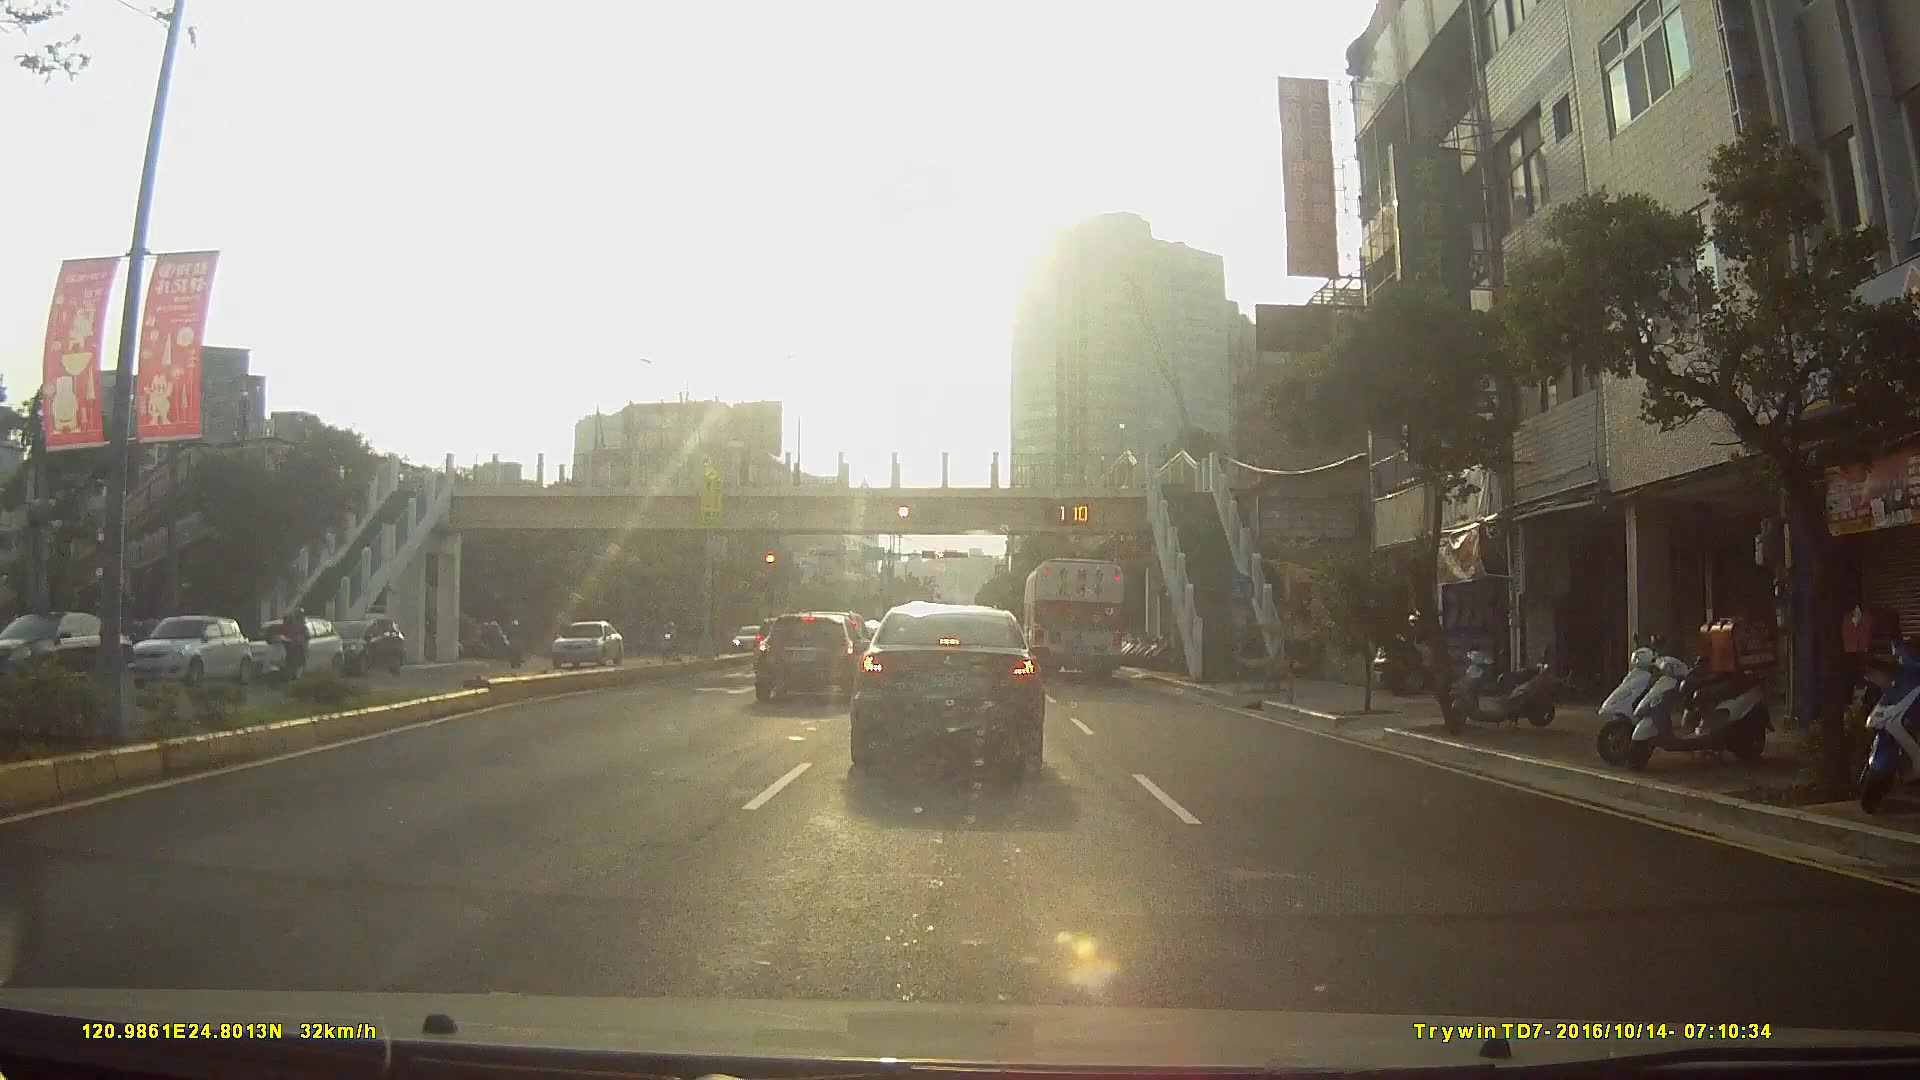rider: (253, 608, 319, 697)
vehicle: (845, 600, 1048, 772), (1021, 554, 1127, 682), (748, 609, 867, 703), (0, 609, 133, 688), (120, 615, 249, 688), (234, 616, 342, 679), (320, 616, 404, 677), (541, 619, 619, 671), (728, 625, 764, 655)
